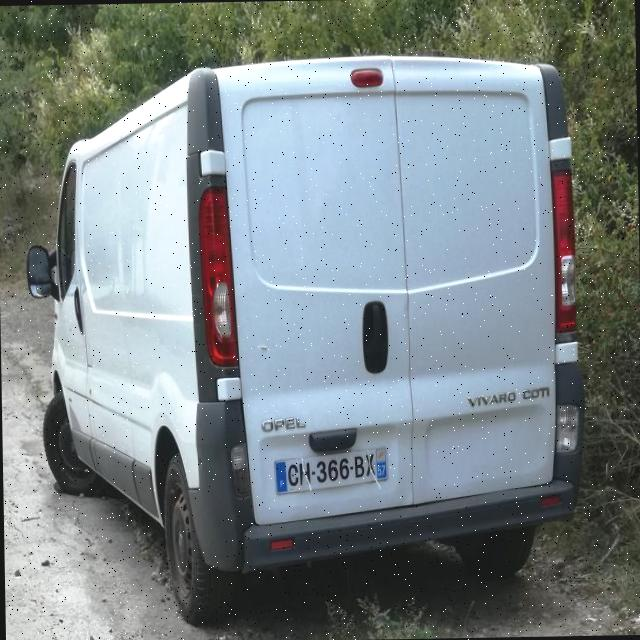EU: (272, 454, 391, 496), (274, 460, 290, 493)
